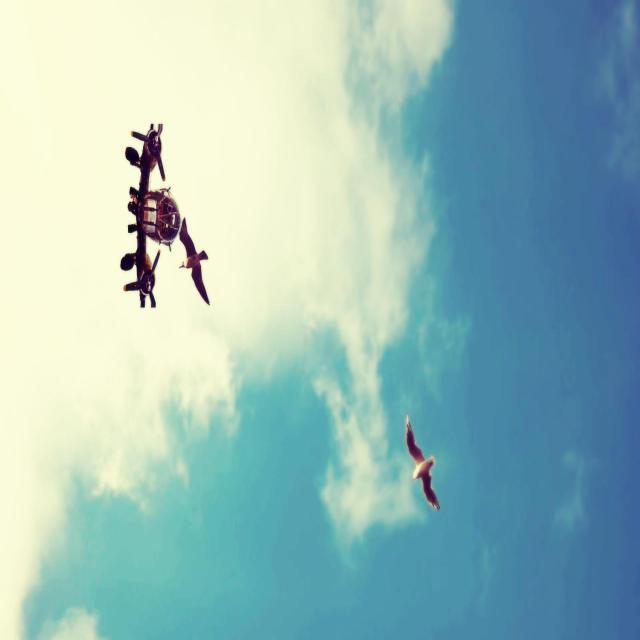airplane: (120, 122, 182, 308)
